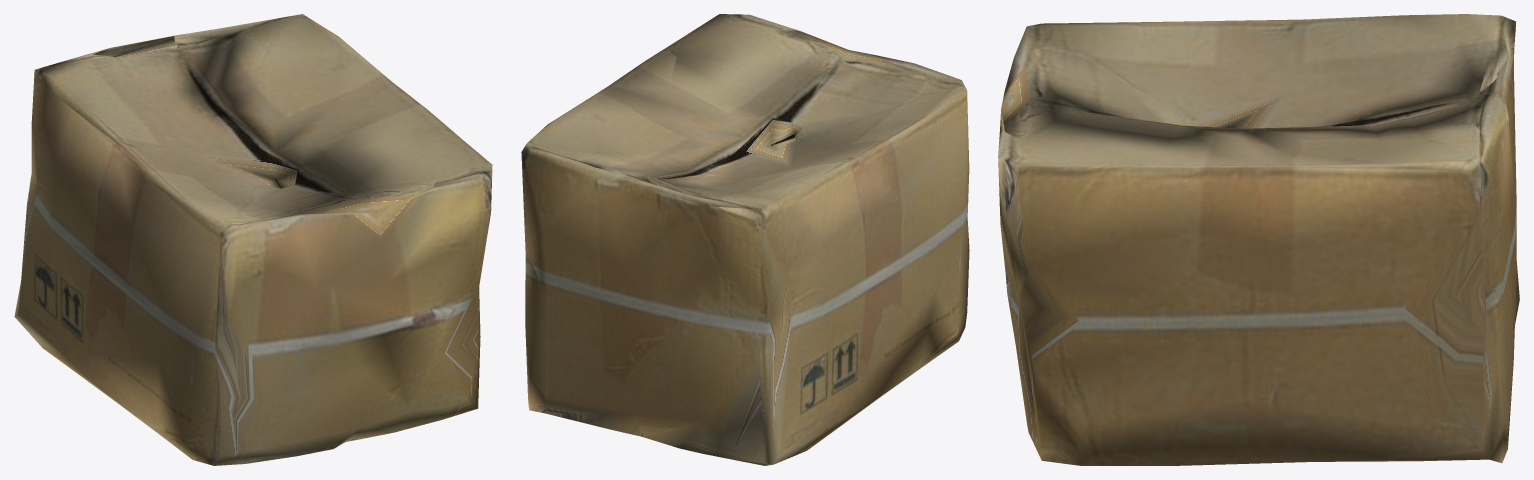
File: cardboard_box_01.gltf
3 renders of one model, left to right at view 1: azimuth 30°, elevation 25°; view 2: azimuth 150°, elevation 25°; view 3: azimuth 270°, elevation 25°, orthographic. The views are drawn at different scales.
Bounding box in the file's own units: 0.3861 × 0.3352 × 0.5088.
1 material, 1 textured.
